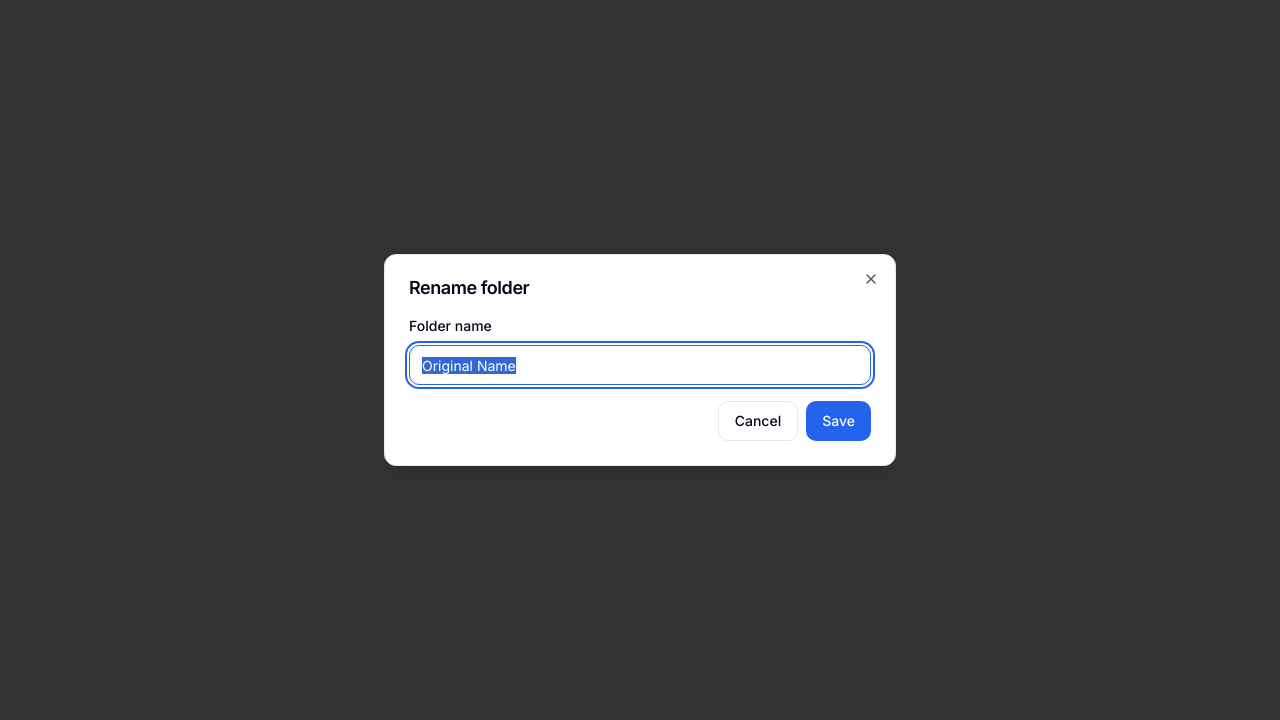
Scenario: RenameFolderDialog › Submit: blank name › Save button is disabled when input is blank
Clear the field. click: (640, 365)
box: top-left (409, 345), bottom-right (871, 385)
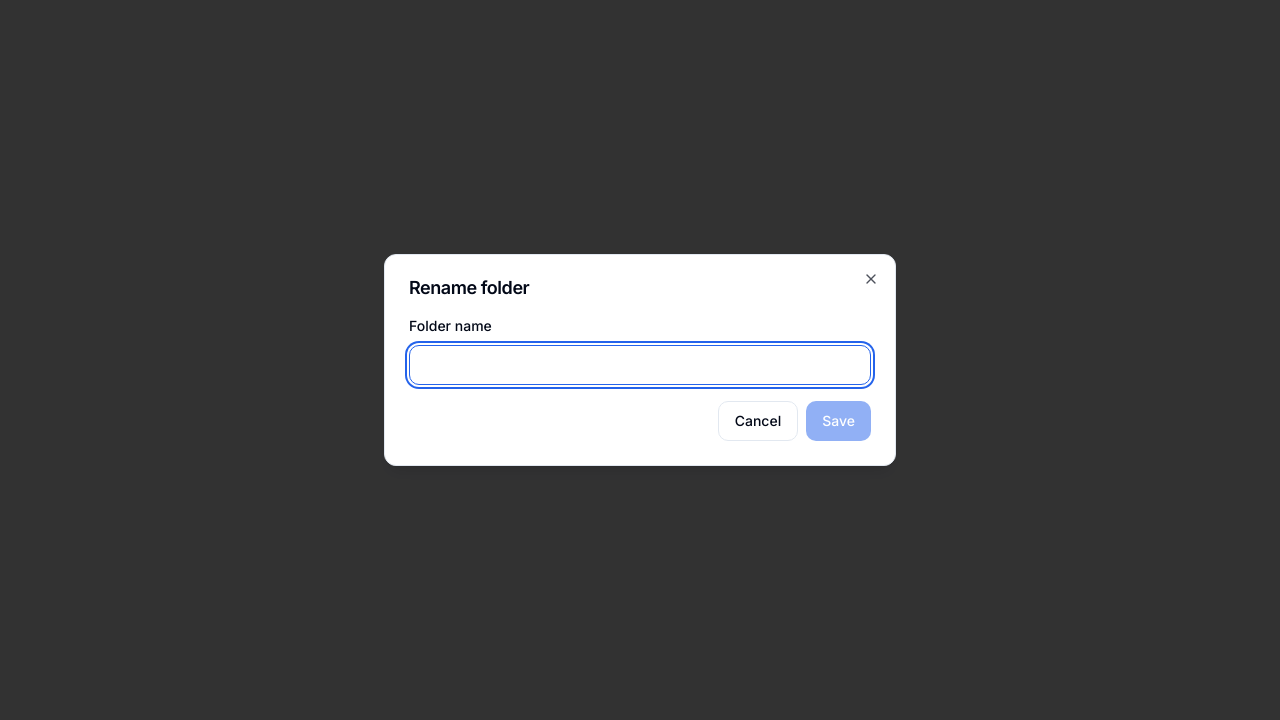
Result: the button "Save" is disabled at top-left (806, 401), bottom-right (871, 441)
